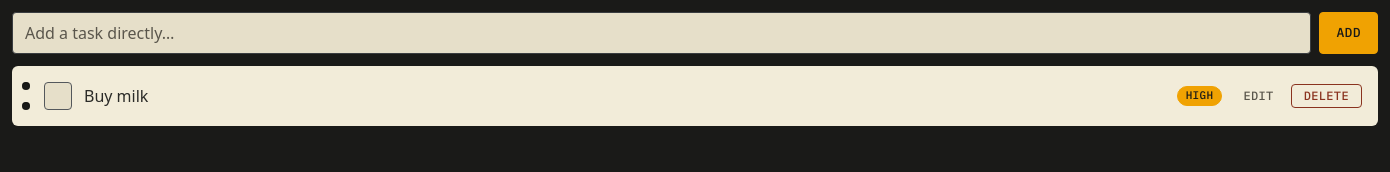
Test: TaskList › marks a task done and it leaves the open list
Expected: the text "Buy milk" is shown, [84, 85, 148, 107]
Click the checkbox named "buy milk" at (58, 96), box [44, 82, 72, 110]
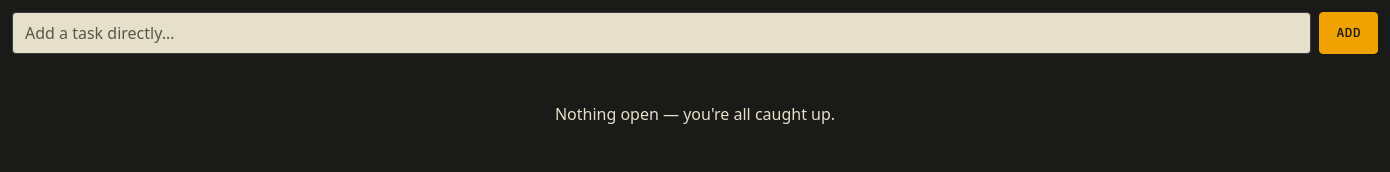
Now the text "Buy milk" is gone
